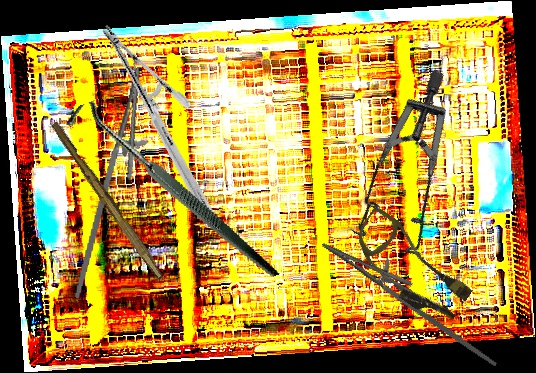Cannula: (340, 205, 482, 330)
Hook Surgical: (60, 60, 281, 327)
Needle Holder: (46, 23, 271, 224), (309, 227, 517, 368), (73, 63, 159, 305)
Scalpel Handle: (47, 120, 169, 281)
Speculum: (305, 66, 525, 281)
